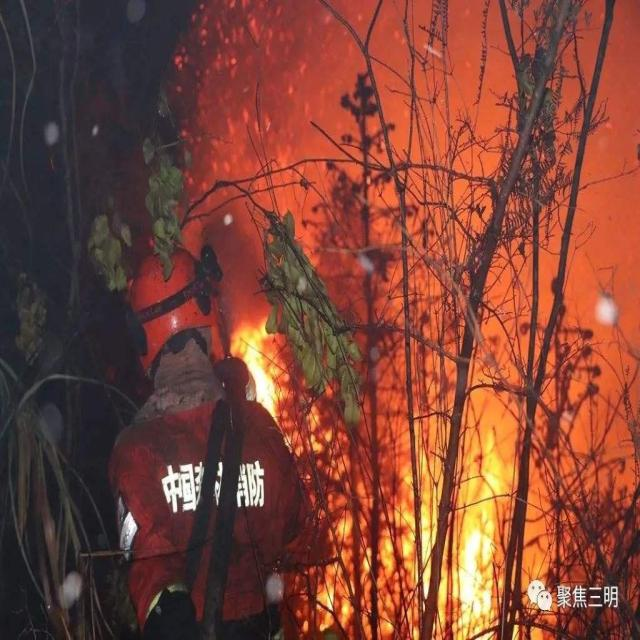fire: (378, 384, 502, 638), (227, 296, 287, 422)
other: (156, 445, 282, 524)
